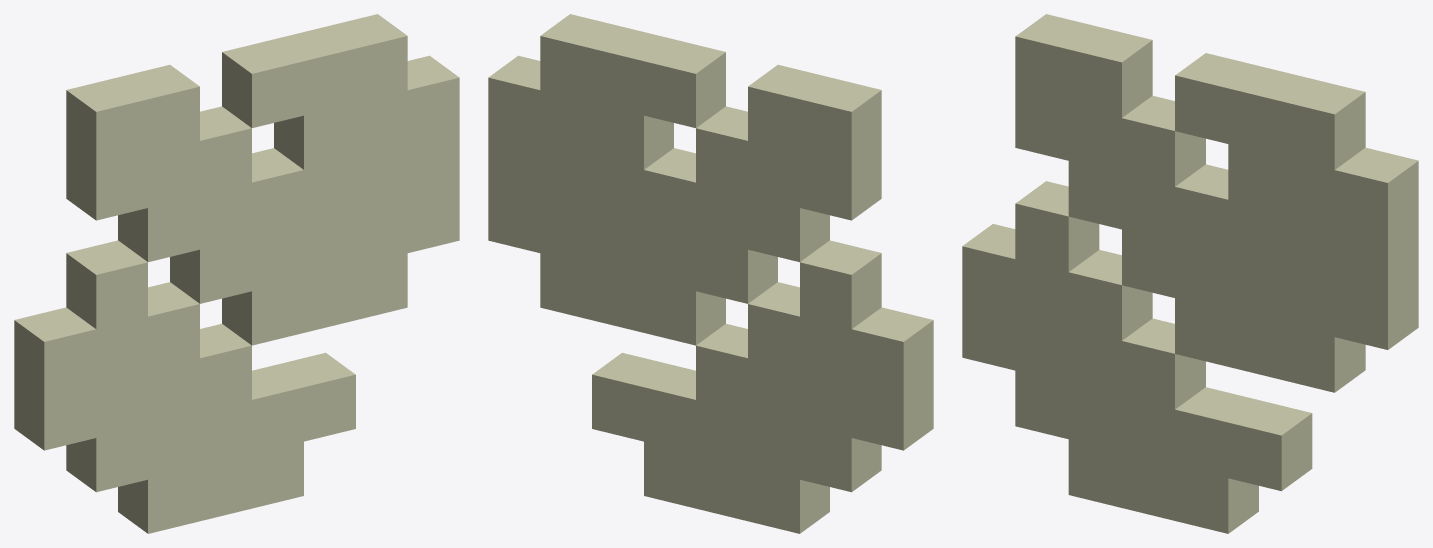
The model's file is Hauberk-Tan.vox.obj.
3 views of the same model, side by side, from view 1: azimuth 30°, elevation 25°; view 2: azimuth 150°, elevation 25°; view 3: azimuth 330°, elevation 25° (orthographic). The views are drawn at different scales.
Bounding box in the file's own units: 0.8 × 0.8 × 0.1.
1 material, 1 textured.
